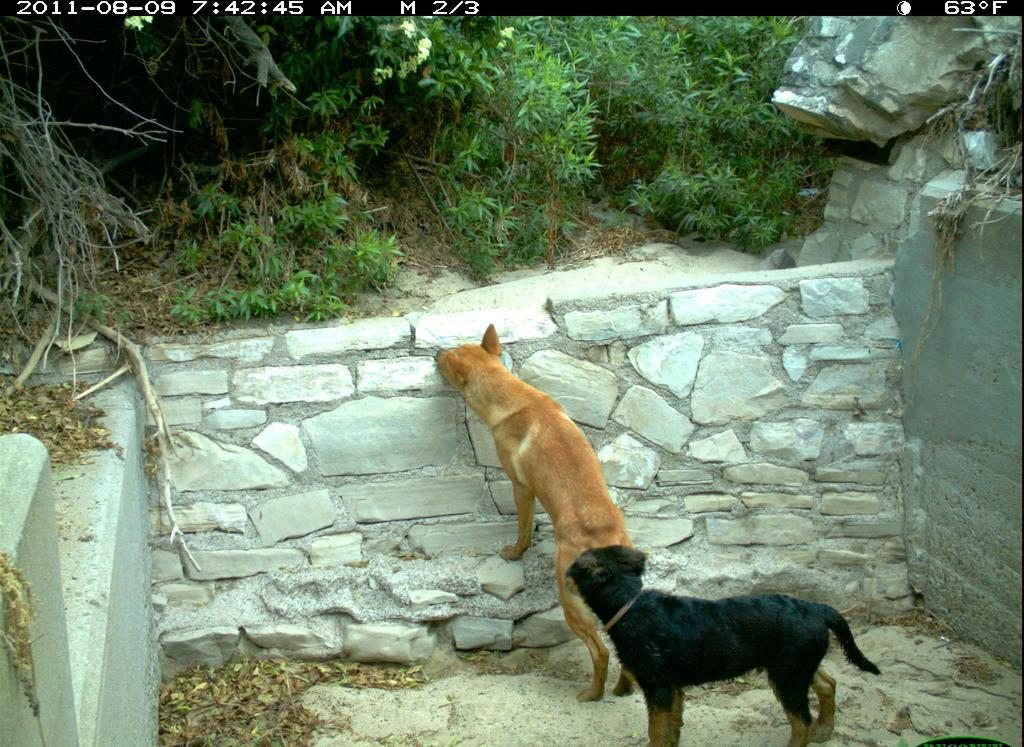dog: (564, 543, 884, 740), (433, 331, 658, 536)
